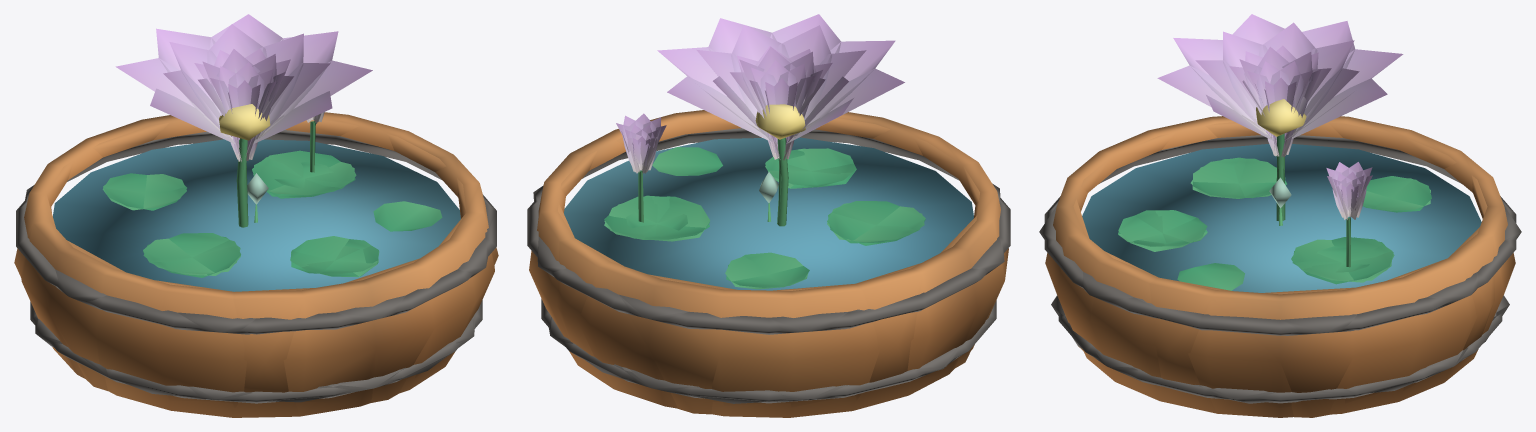
3 views of the same model, side by side, from view 1: azimuth 30°, elevation 25°; view 2: azimuth 150°, elevation 25°; view 3: azimuth 270°, elevation 25° (orthographic). The views are drawn at different scales.
Visible parts, largest first — view 1: stage0, stage2, stage3, stage1; view 2: stage0, stage2, stage3, stage1; view 3: stage0, stage2, stage3, stage1.
Part boxes in pixels (box(x1,y1,x2,y2)): stage0: box(14, 119, 498, 417); stage2: box(16, 48, 496, 407); stage3: box(52, 14, 473, 417); stage1: box(35, 134, 494, 416); stage0: box(529, 113, 1008, 417); stage2: box(527, 46, 1010, 407); stage3: box(551, 14, 925, 410); stage1: box(550, 132, 996, 417); stage0: box(1039, 117, 1521, 417); stage2: box(1044, 45, 1516, 407); stage3: box(1039, 14, 1521, 382); stage1: box(1051, 129, 1509, 417).
Size of the model in its own units: 1 by 0.6206 by 1.01.
